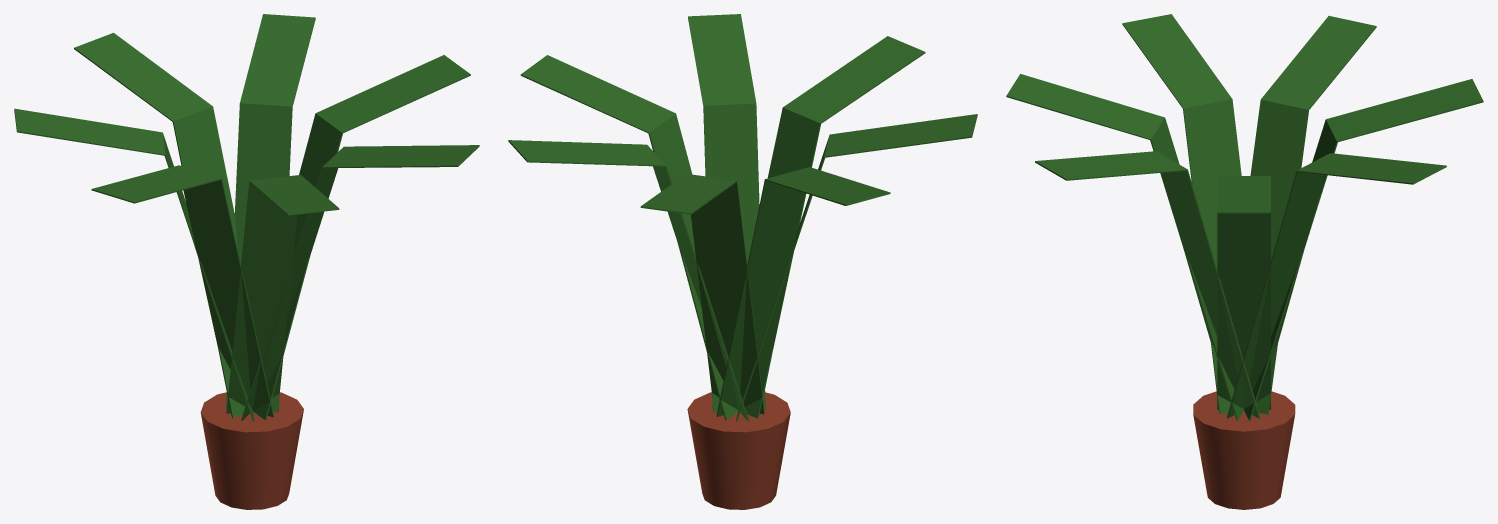
Rendered from home.plant.large.glb.
3 renders of one model, left to right at view 1: azimuth 30°, elevation 25°; view 2: azimuth 150°, elevation 25°; view 3: azimuth 270°, elevation 25°, orthographic.
Parts seen in each view (by area): view 1: main__foliage, main__clay_tile; view 2: main__foliage, main__clay_tile; view 3: main__foliage, main__clay_tile.
Boxes of the visible parts, x1,y1,x2,y2 form: main__foliage: (14,14,479,421); main__clay_tile: (200,392,303,509); main__foliage: (508,14,977,421); main__clay_tile: (687,392,790,509); main__foliage: (1006,14,1483,420); main__clay_tile: (1193,391,1295,509).
Bounding box in the file's own units: 1.25 × 1.13 × 1.28.
